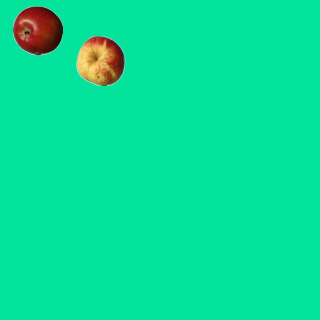Apple Braeburn: (12, 5, 62, 55)
Apple Red Yellow 1: (75, 35, 125, 85)
